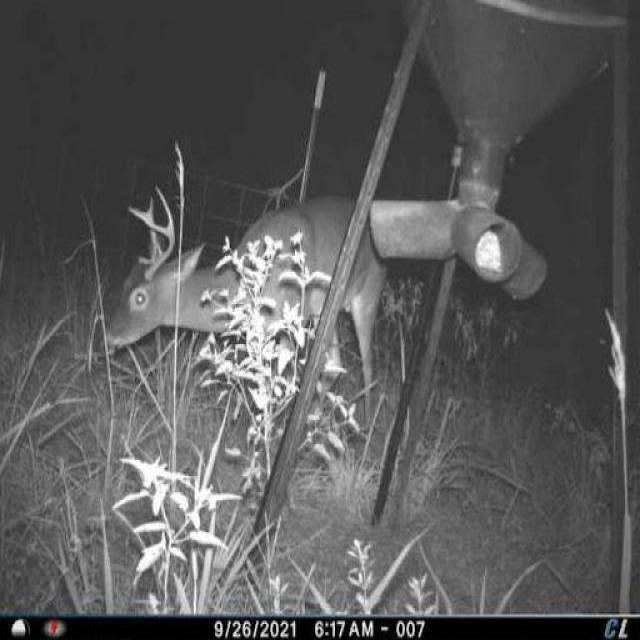deer: (91, 179, 386, 464)
